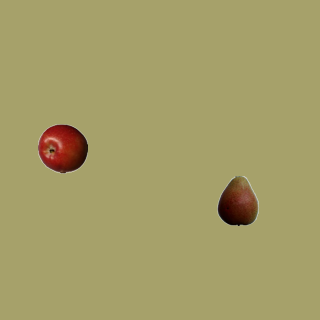Apple Braeburn: (37, 123, 87, 173)
Pear Forelle: (212, 175, 262, 225)
